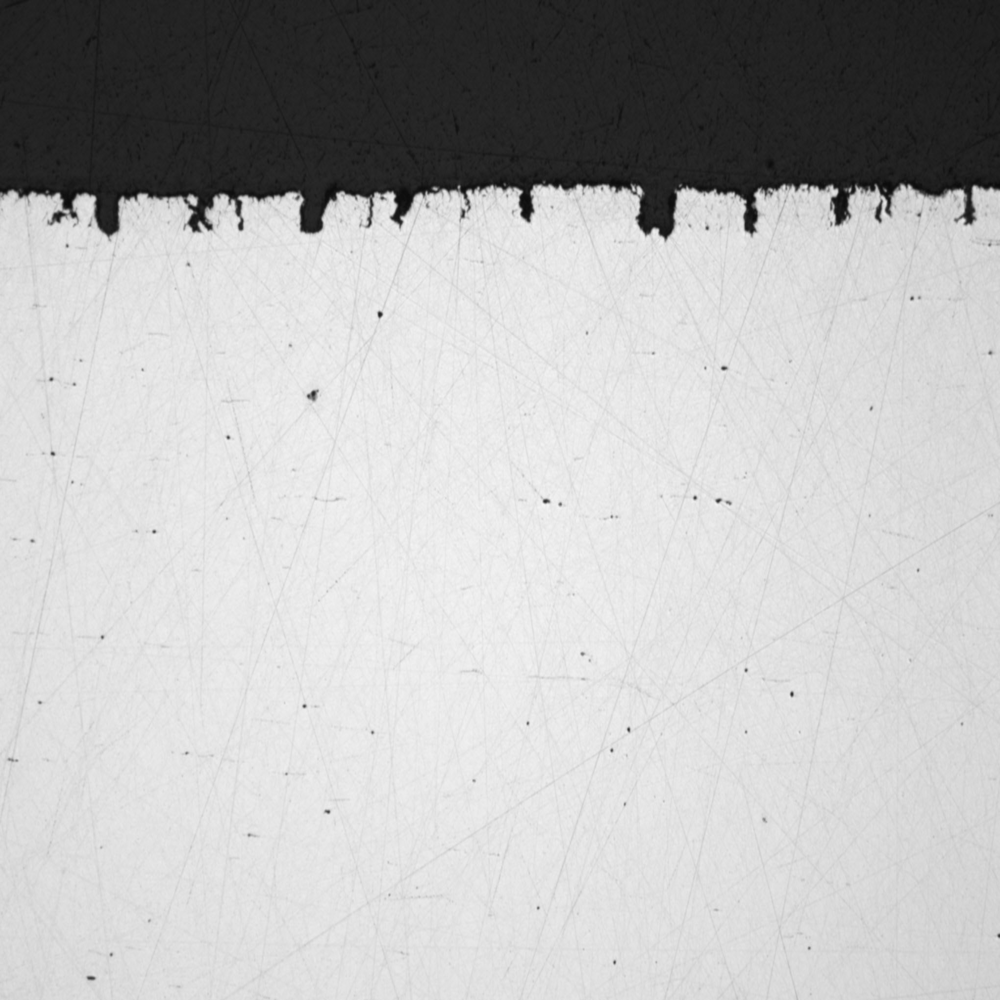crack: (625, 179, 685, 246), (292, 175, 345, 242), (815, 180, 857, 238), (947, 182, 984, 242), (864, 182, 901, 242), (89, 190, 125, 244), (383, 179, 419, 232), (735, 182, 766, 239), (184, 191, 219, 240), (224, 181, 251, 237), (510, 180, 536, 236), (52, 189, 85, 232), (358, 193, 384, 230), (455, 189, 470, 232)
